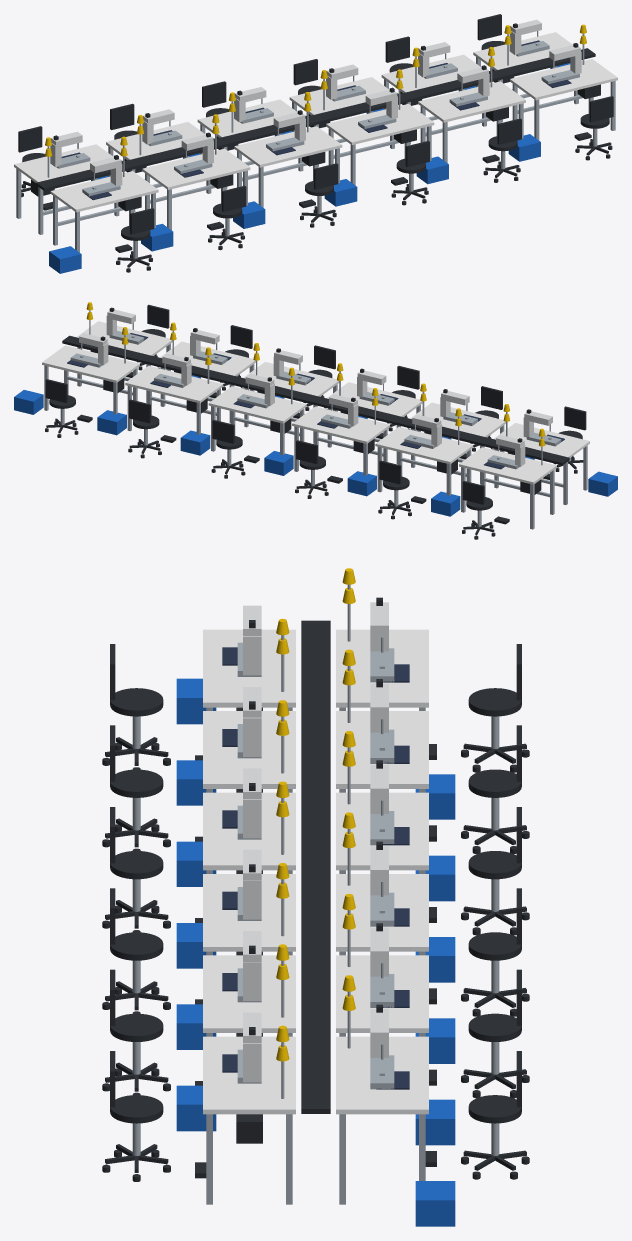
Rendered from dikis-istasyonu.glb.
3 views of the same model, one above another, from view 1: azimuth 30°, elevation 25°; view 2: azimuth 150°, elevation 25°; view 3: azimuth 270°, elevation 25° (orthographic). The views are drawn at different scales.
Parts seen in each view (by area): view 1: Asset; view 2: Asset; view 3: Asset.
Boxes of the visible parts, x1,y1,x2,y2 form: Asset: (14, 14, 617, 273); Asset: (14, 302, 617, 539); Asset: (102, 568, 529, 1226).
Bounding box in the file's own units: 9.29 × 1.39 × 3.22.
